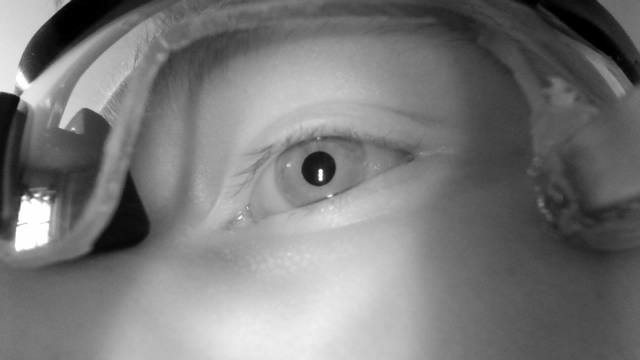pupil: (301, 151, 337, 187)
